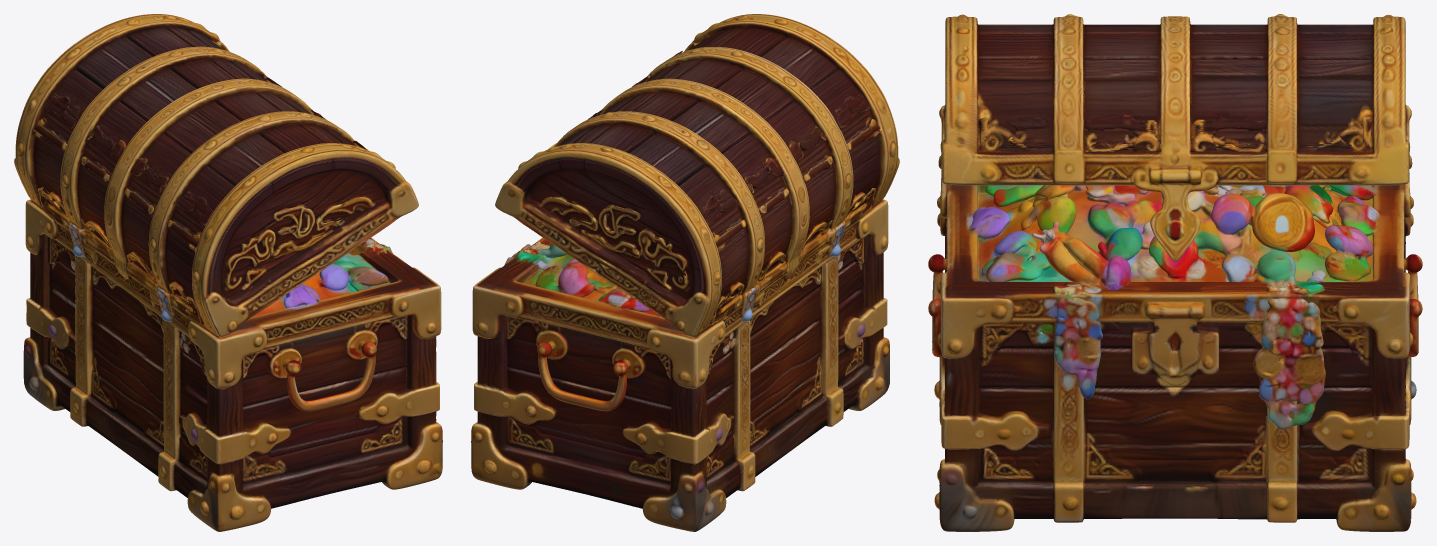
File: cofre.glb
3 renders of one model, left to right at view 1: azimuth 30°, elevation 25°; view 2: azimuth 150°, elevation 25°; view 3: azimuth 270°, elevation 25°, orthographic. The views are drawn at different scales.
Visible parts, largest first — view 1: tripo_node_de8f7a72-aee2-4ed8-9712-ddaf238f0f5a; view 2: tripo_node_de8f7a72-aee2-4ed8-9712-ddaf238f0f5a; view 3: tripo_node_de8f7a72-aee2-4ed8-9712-ddaf238f0f5a.
Boxes of the visible parts, left/top/right/bottom form: tripo_node_de8f7a72-aee2-4ed8-9712-ddaf238f0f5a: left=14, top=14, right=442, bottom=531; tripo_node_de8f7a72-aee2-4ed8-9712-ddaf238f0f5a: left=471, top=14, right=899, bottom=531; tripo_node_de8f7a72-aee2-4ed8-9712-ddaf238f0f5a: left=928, top=14, right=1422, bottom=531.
Bounding box in the file's own units: 0.706 × 0.9643 × 1.
Materials: 1 (1 with a texture image).
